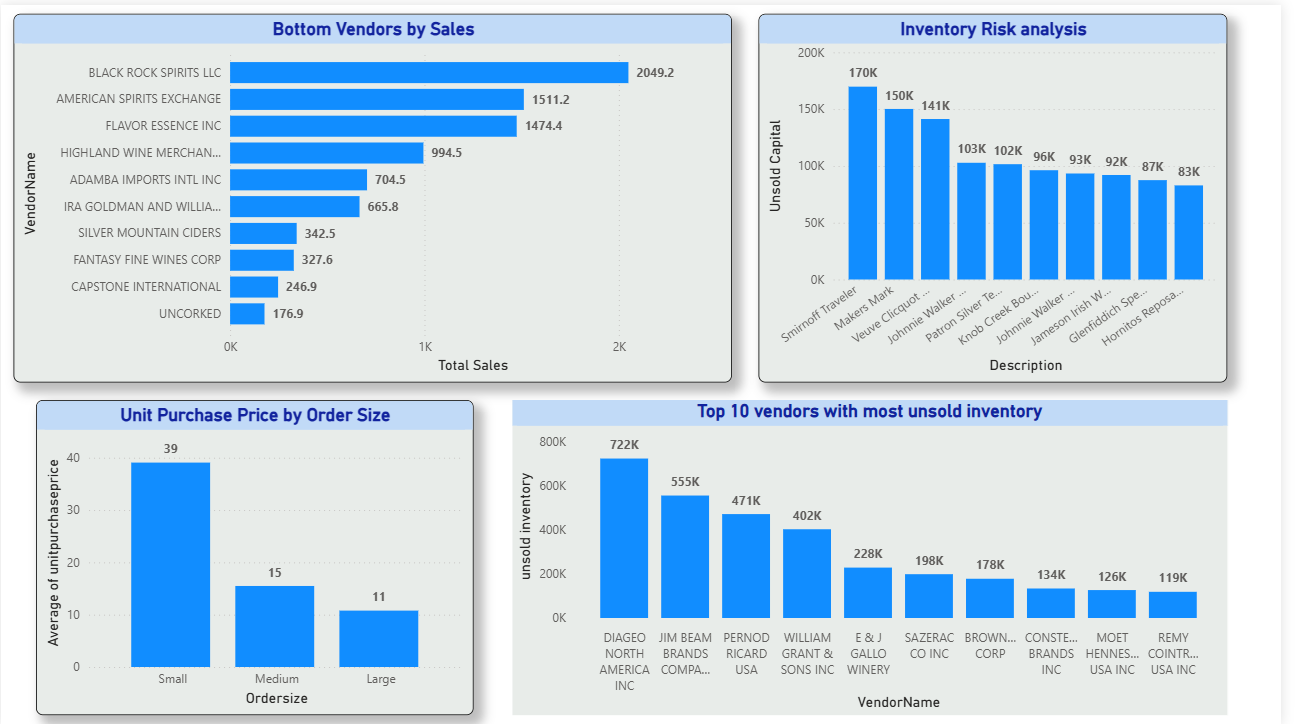

The dashboard page shown, as its layout file describes it:
{"tool":"powerbi","page":{"name":"Page 2","canvas":[1280,720],"ordinal":1},"visuals":[{"type":"clusteredColumnChart","title":"Inventory Risk analysis","fields":{"Category":["vendor_sales_summary.Description"],"Y":["vendor_sales_summary.Unsold Capital"]},"box":[757.5,8.8,468.8,368.8],"z":1000},{"type":"columnChart","title":"Unit Purchase Price by Order Size","fields":{"Category":["vendor_sales_summary.Ordersize"],"Y":["Avg(vendor_sales_summary.unitpurchaseprice)"]},"box":[35,395,437.5,315],"z":2000},{"type":"barChart","title":"Bottom Vendors by Sales","fields":{"Y":["Sum(vendor_sales_summary.TotalSalesDollars)"],"Category":["vendor_sales_summary.VendorName"]},"box":[12.5,8.8,718.8,368.8],"z":3001},{"type":"columnChart","title":"Top 10 vendors with most unsold inventory","fields":{"Category":["vendor_sales_summary.VendorName"],"Y":["Sum(vendor_sales_summary.unsoldinventoryvalue)"]},"box":[511.2,395,715,315],"z":3002}]}

Visuals, with their boxes in screenshot pixels (x1, y1, x2, y2), scaled from the page's 1280x720 canvas onto the 1301x724 screenshot:
"Inventory Risk analysis" clusteredColumnChart: BBox(770, 9, 1246, 380)
"Unit Purchase Price by Order Size" columnChart: BBox(36, 397, 480, 714)
"Bottom Vendors by Sales" barChart: BBox(13, 9, 743, 380)
"Top 10 vendors with most unsold inventory" columnChart: BBox(520, 397, 1246, 714)
